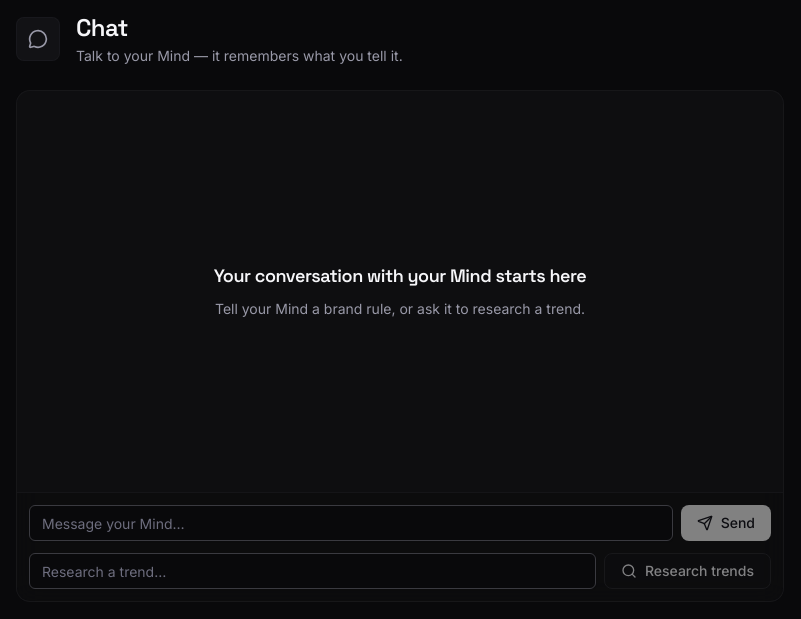
Test: ChatPage › renders trend chips from researchTrends
This screenshot has width=801, height=619.
Expected: the text "Your conversation with your Mind starts here" is shown, [214,262,586,290]
Type "hook formulas" into the field labelled "Research a trend…". click: (312, 571)
box: [29,553,596,589]
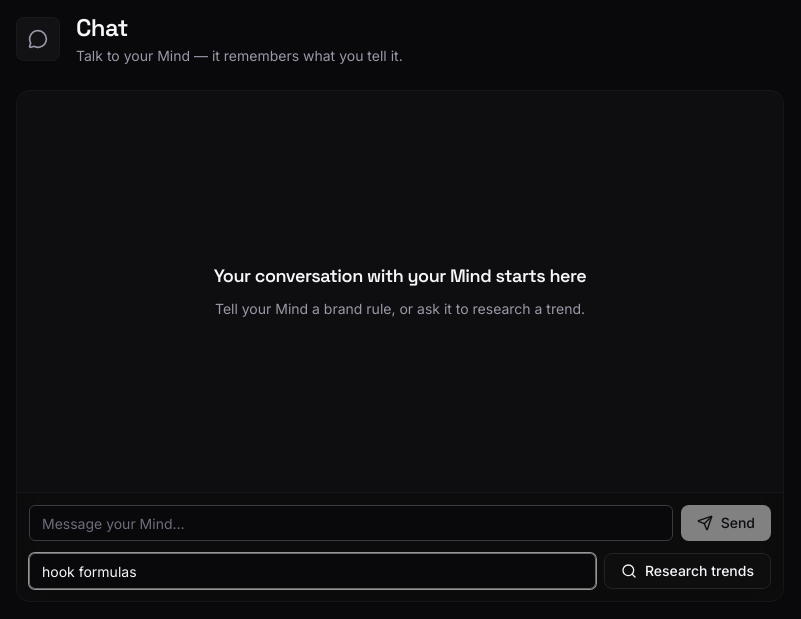
Click the button "Research trends". click: (687, 571)
box: [604,553,771,589]
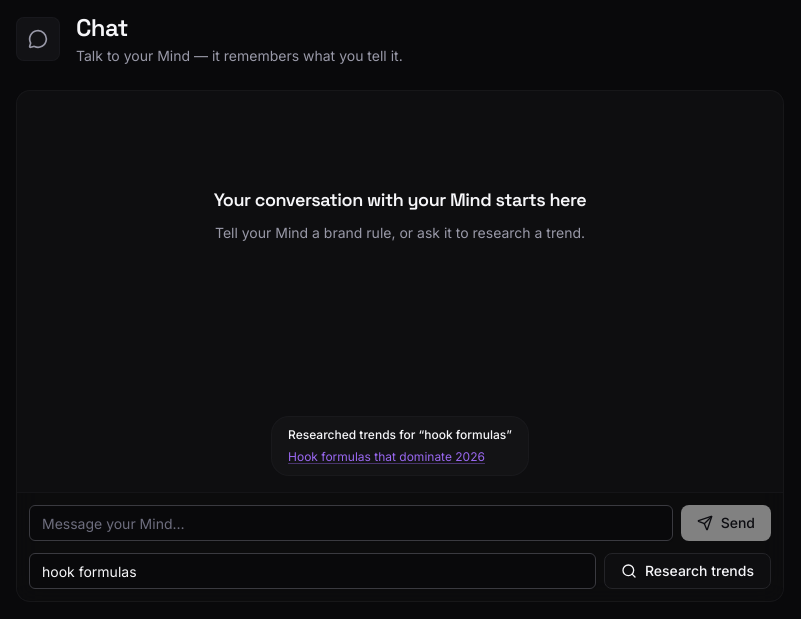
Now the text "Researched trends for “hook formulas”" is shown, box [288,427,512,443]
